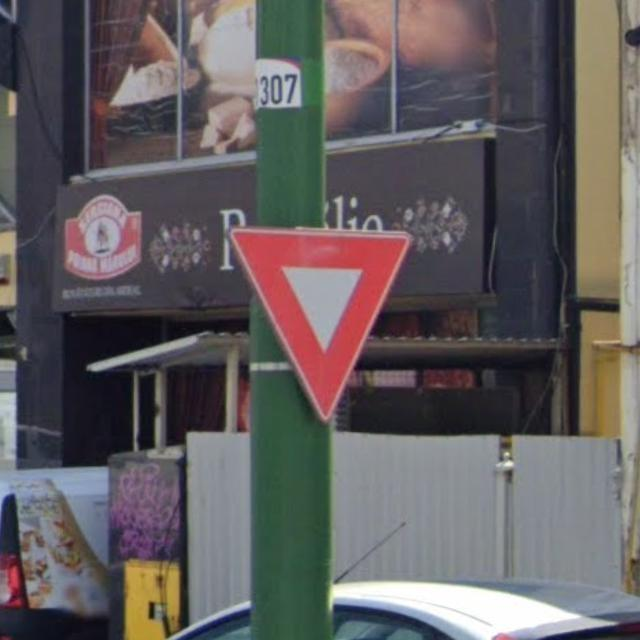prio_give_way: (228, 222, 410, 423)
